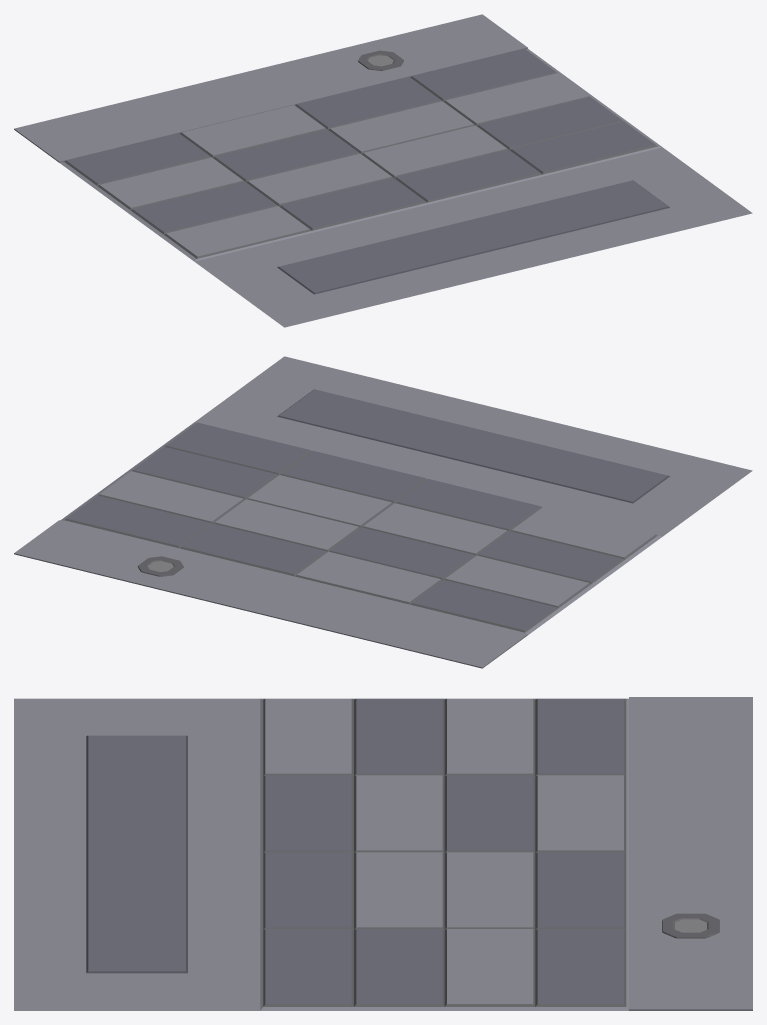
The model's file is FloorSciFiPanel_04.glb.
The picture shows the model from 3 angles, top to bottom: view 1: azimuth 30°, elevation 25°; view 2: azimuth 150°, elevation 25°; view 3: azimuth 270°, elevation 25°; orthographic projection. The views are drawn at different scales.
Parts seen in each view (by area): view 1: FloorSciFiPanel_04; view 2: FloorSciFiPanel_04; view 3: FloorSciFiPanel_04.
Boxes of the visible parts, <box> form: FloorSciFiPanel_04: <box>14,14,752,327</box>; FloorSciFiPanel_04: <box>14,356,752,668</box>; FloorSciFiPanel_04: <box>14,697,752,1010</box>.
Size of what is drawn, in the model's own units: 2 by 0.01 by 2.
Materials: 1 (1 with a texture image).
